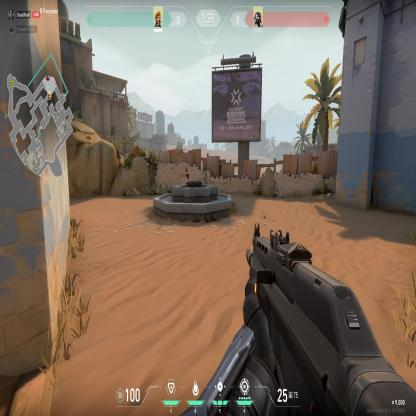enemy: (181, 168, 190, 181)
